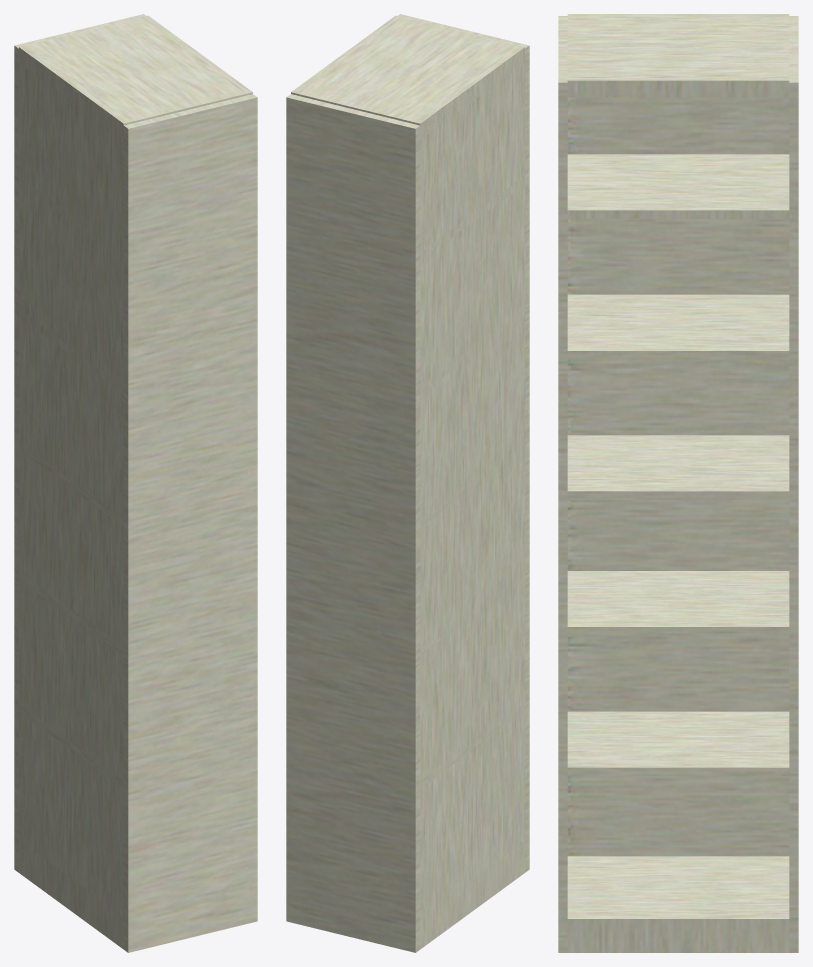
The model's file is High_shelf.dae.
The picture shows the model from 3 angles, left to right: view 1: azimuth 30°, elevation 25°; view 2: azimuth 150°, elevation 25°; view 3: azimuth 270°, elevation 25°; orthographic projection. The views are drawn at different scales.
Visible parts, largest first — view 1: High_shelf; view 2: High_shelf; view 3: High_shelf.
Boxes of the visible parts, bbox=[...] form: High_shelf: bbox=[14, 14, 257, 952]; High_shelf: bbox=[286, 14, 529, 952]; High_shelf: bbox=[558, 14, 798, 952].
Size of the model in its own units: 0.295 by 0.45 by 1.8.
1 material, 1 textured.
